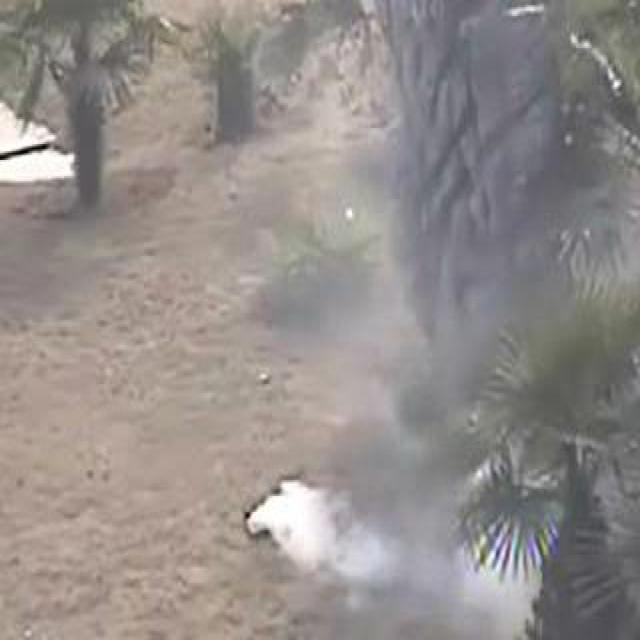Smoke: (246, 478, 544, 640)
